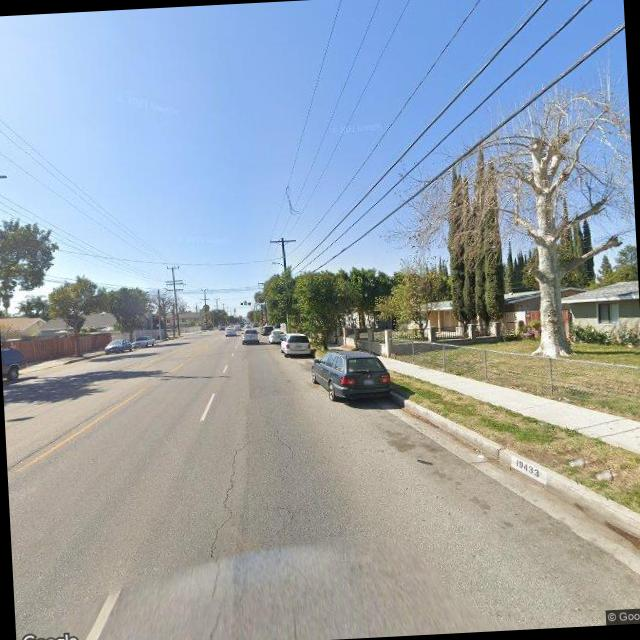pothole: (193, 433, 264, 640)
